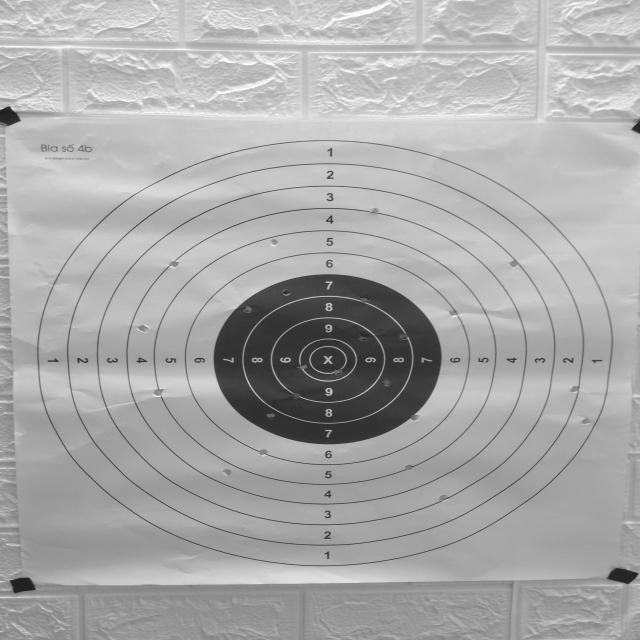bullet: (136, 324, 150, 332), (153, 388, 162, 398), (509, 260, 519, 268), (169, 260, 179, 268), (222, 468, 232, 476), (581, 417, 592, 424), (448, 308, 457, 316), (358, 335, 370, 341), (243, 306, 252, 314), (439, 495, 449, 502), (258, 449, 268, 456), (368, 208, 379, 214), (270, 238, 278, 246), (282, 288, 290, 296), (382, 379, 391, 386), (410, 414, 419, 421), (570, 386, 579, 393), (405, 464, 415, 470), (400, 334, 409, 340), (333, 369, 342, 375), (291, 393, 299, 399), (360, 297, 369, 302), (298, 364, 307, 369), (267, 413, 275, 418)
target: (7, 116, 640, 584)
